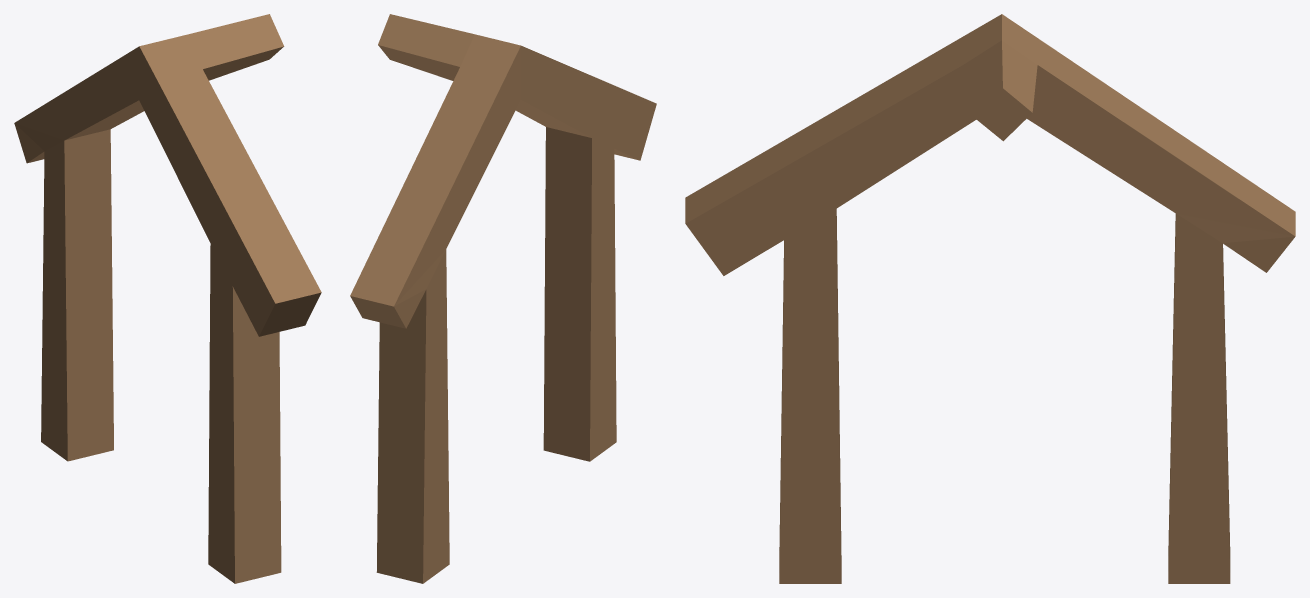
File: MineEntrance01.fbx
3 renders of one model, left to right at view 1: azimuth 30°, elevation 25°; view 2: azimuth 150°, elevation 25°; view 3: azimuth 270°, elevation 25°, orthographic. The views are drawn at different scales.
Parts seen in each view (by area): view 1: MineEntrance01; view 2: MineEntrance01; view 3: MineEntrance01.
Part boxes in pixels (x1,y1,x2,y2): MineEntrance01: (14, 14, 321, 583); MineEntrance01: (350, 14, 656, 583); MineEntrance01: (685, 14, 1295, 583).
Bounding box in the file's own units: 346 × 340 × 99.57.
